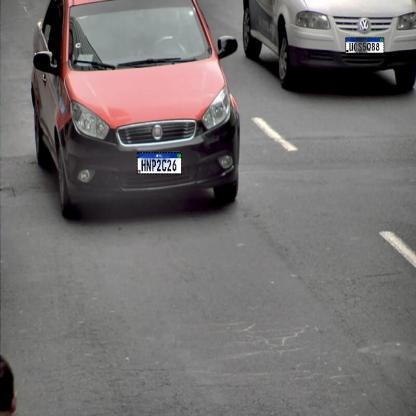PlacaM: (137, 152, 182, 175), (346, 38, 384, 53)
